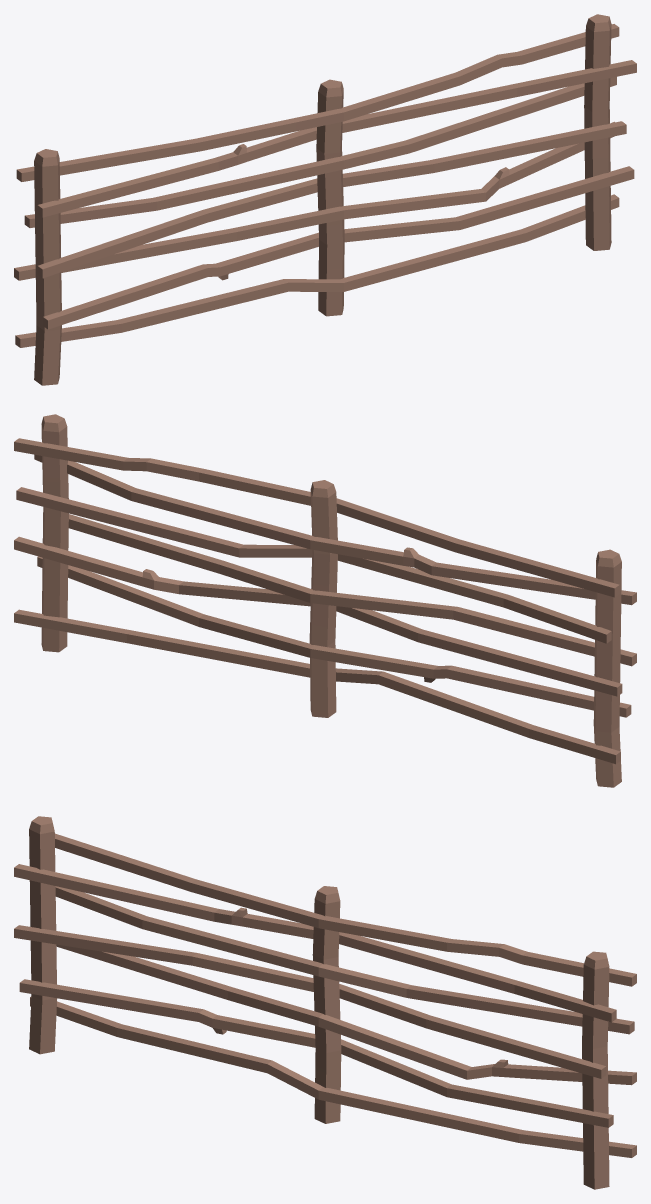
The model's file is Fence_stick.fbx.
3 renders of one model, top to bottom at view 1: azimuth 30°, elevation 25°; view 2: azimuth 150°, elevation 25°; view 3: azimuth 330°, elevation 25°, orthographic.
Visible parts, largest first — view 1: SM_Prop_Fence_Stick_01; view 2: SM_Prop_Fence_Stick_01; view 3: SM_Prop_Fence_Stick_01.
Boxes of the visible parts, x1,y1,x2,y2 form: SM_Prop_Fence_Stick_01: [14, 14, 636, 385]; SM_Prop_Fence_Stick_01: [14, 414, 636, 787]; SM_Prop_Fence_Stick_01: [14, 816, 636, 1189].
Bounding box in the file's own units: 326 × 118 × 22.61.
